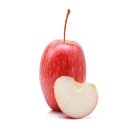apple: (53, 75, 99, 119)
